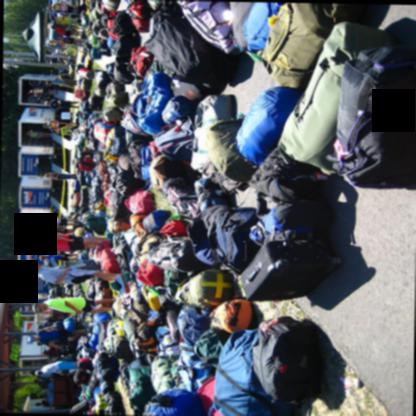backpack: (252, 314, 314, 402), (245, 162, 328, 203), (154, 114, 195, 159), (192, 323, 229, 368)
handbag: (253, 198, 335, 243), (207, 298, 250, 332)
suitcase: (55, 0, 338, 415), (277, 23, 400, 174), (326, 44, 416, 189), (259, 1, 376, 87), (142, 10, 239, 85), (238, 237, 339, 300), (193, 118, 259, 182), (142, 209, 169, 229), (69, 398, 88, 414), (97, 321, 108, 343), (76, 358, 92, 370), (80, 187, 89, 203), (78, 170, 87, 186)
